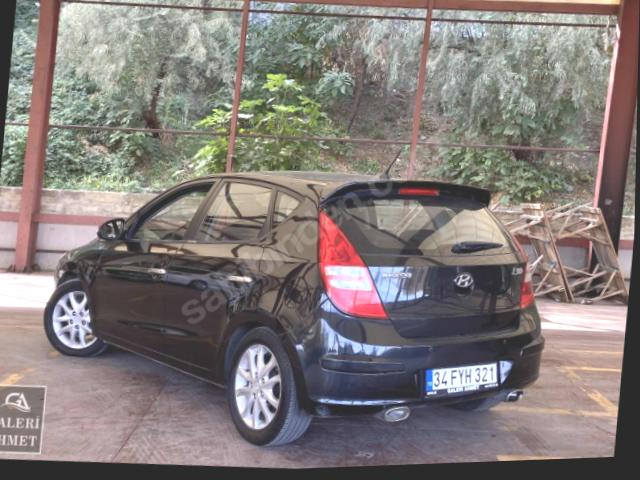plaka: (424, 362, 497, 396)
